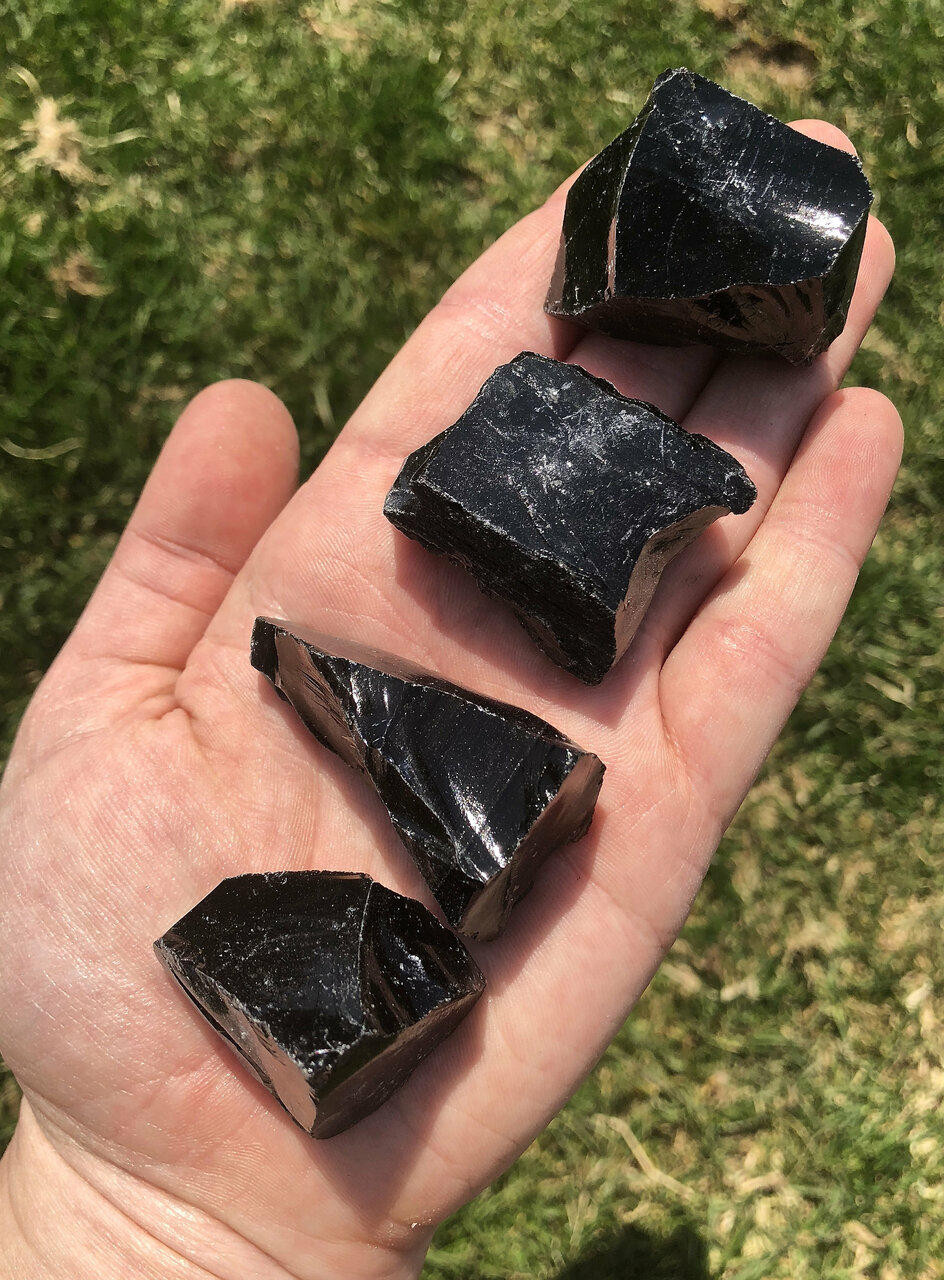Obsidian: (375, 353, 760, 677), (540, 60, 883, 368), (145, 864, 499, 1152)
